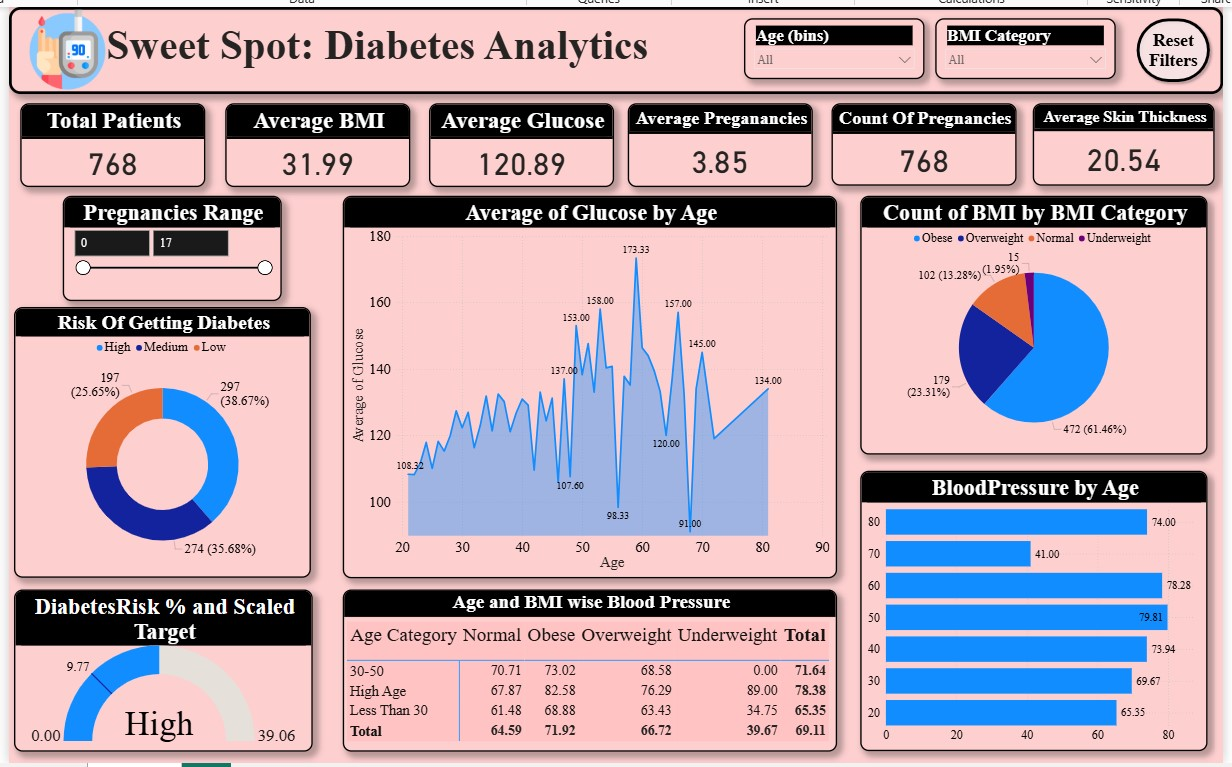

This screenshot's page, from the dashboard's own definition file:
{"tool":"powerbi","page":{"name":"Page 1","canvas":[2120,1320],"ordinal":0},"visuals":[{"type":"slicer","fields":{"Values":["diabetes new.Age (bins)"]},"box":[1283.2,19.8,314.9,106.6],"z":0,"group":"g1"},{"type":"pieChart","fields":{"Category":["diabetes new.BMI Category"],"Y":["CountNonNull(diabetes new.BMI)"]},"box":[1487.2,329.5,606.6,452],"z":0},{"type":"slicer","fields":{"Values":["diabetes new.BMI Category"]},"box":[1618,19.8,314.9,106.6],"z":1000,"group":"g1"},{"type":"gauge","fields":{"Y":["diabetes new.DiabetesRisk %"],"TargetValue":["diabetes new.Scaled Target"]},"box":[8.7,1017.7,522,282.9],"z":1000},{"type":"image","box":[-8.7,0,221.7,148.7],"z":2000,"group":"g1"},{"type":"card","title":"Average Glucose","fields":{"Values":["Avg(diabetes new.Glucose)"]},"box":[731.6,167.2,323,146.6],"z":2000,"group":"g2"},{"type":"lineChart","fields":{"Category":["diabetes new.Age"],"Y":["Avg(diabetes new.Glucose)"]},"box":[583.2,329.5,863.2,667.8],"z":2000},{"type":"card","title":"Average BMI","fields":{"Values":["Avg(diabetes new.BMI)"]},"box":[376.3,167.2,323,146.6],"z":3000,"group":"g2"},{"type":"clusteredBarChart","title":"BloodPressure by Age","fields":{"Y":["Avg(diabetes new.BloodPressure (mg/dL))"],"Category":["diabetes new.Age (bins)"]},"box":[1487.2,810.7,606.6,489.9],"z":3000},{"type":"slicer","title":"Pregnancies Range","fields":{"Values":["diabetes new.Pregnancies"]},"box":[93.3,329.5,382,183.7],"z":4000},{"type":"textbox","box":[0,0,2120,151.6],"z":5000},{"type":"donutChart","title":"Risk Of Getting Diabetes","fields":{"Y":["diabetes new.PatientCounts"],"Category":["diabetes new.Diabetes Risk"]},"box":[8.5,524.4,518.7,473.1],"z":6000},{"type":"group","id":"g1","title":"Group 1","box":[-8.7,0,2114.2,148.7],"z":7000},{"type":"pivotTable","title":"Age and BMI wise Blood Pressure","fields":{"Rows":["diabetes new.Age Category"],"Columns":["diabetes new.BMI Category"],"Values":["Avg(diabetes new.BloodPressure (mg/dL))"]},"box":[583.2,1017.7,863.2,282.9],"z":8000},{"type":"group","id":"g2","title":"Group 2","box":[18.6,167.2,2086.8,146.6],"z":9000},{"type":"card","title":"Average Preganancies","fields":{"Values":["Avg(diabetes new.Pregnancies)"]},"box":[1079.4,167.2,323,146.6],"z":11000,"group":"g2"},{"type":"actionButton","box":[1959.6,9.9,145.9,128.9],"z":11002,"group":"g1"},{"type":"card","title":"Count Of Pregnancies","fields":{"Values":["CountNonNull(diabetes new.Pregnancies)"]},"box":[1434.6,167.2,323,144.1],"z":12000,"group":"g2"},{"type":"card","title":"Average Skin Thickness","fields":{"Values":["Avg(diabetes new.SkinThickness)"]},"box":[1787.4,167.2,318,144.1],"z":13000,"group":"g2"},{"type":"card","title":"Total Patients","fields":{"Values":["diabetes new.PatientCounts"]},"box":[18.6,167.2,323,146.6],"z":14000,"group":"g2"}]}

Visuals, with their boxes in screenshot pixels (x1, y1, x2, y2):
slicer - diabetes new.Age (bins): {"x1": 742, "y1": 15, "x2": 922, "y2": 76}
pieChart - diabetes new.BMI Category x CountNonNull(diabetes new.BMI): {"x1": 858, "y1": 192, "x2": 1206, "y2": 451}
slicer - diabetes new.BMI Category: {"x1": 933, "y1": 15, "x2": 1114, "y2": 76}
gauge - diabetes new.DiabetesRisk % x diabetes new.Scaled Target: {"x1": 11, "y1": 586, "x2": 310, "y2": 748}
image: {"x1": 1, "y1": 3, "x2": 128, "y2": 88}
"Average Glucose" card: {"x1": 426, "y1": 99, "x2": 611, "y2": 183}
lineChart - diabetes new.Age x Avg(diabetes new.Glucose): {"x1": 341, "y1": 192, "x2": 835, "y2": 575}
"Average BMI" card: {"x1": 222, "y1": 99, "x2": 407, "y2": 183}
"BloodPressure by Age" clusteredBarChart: {"x1": 858, "y1": 468, "x2": 1206, "y2": 748}
"Pregnancies Range" slicer: {"x1": 60, "y1": 192, "x2": 279, "y2": 297}
textbox: {"x1": 6, "y1": 3, "x2": 1221, "y2": 90}
"Risk Of Getting Diabetes" donutChart: {"x1": 11, "y1": 304, "x2": 308, "y2": 575}
"Group 1" group: {"x1": 1, "y1": 3, "x2": 1213, "y2": 88}
"Age and BMI wise Blood Pressure" pivotTable: {"x1": 341, "y1": 586, "x2": 835, "y2": 748}
"Group 2" group: {"x1": 17, "y1": 99, "x2": 1213, "y2": 183}
"Average Preganancies" card: {"x1": 625, "y1": 99, "x2": 810, "y2": 183}
actionButton: {"x1": 1129, "y1": 9, "x2": 1213, "y2": 83}
"Count Of Pregnancies" card: {"x1": 828, "y1": 99, "x2": 1013, "y2": 182}
"Average Skin Thickness" card: {"x1": 1030, "y1": 99, "x2": 1213, "y2": 182}
"Total Patients" card: {"x1": 17, "y1": 99, "x2": 202, "y2": 183}
